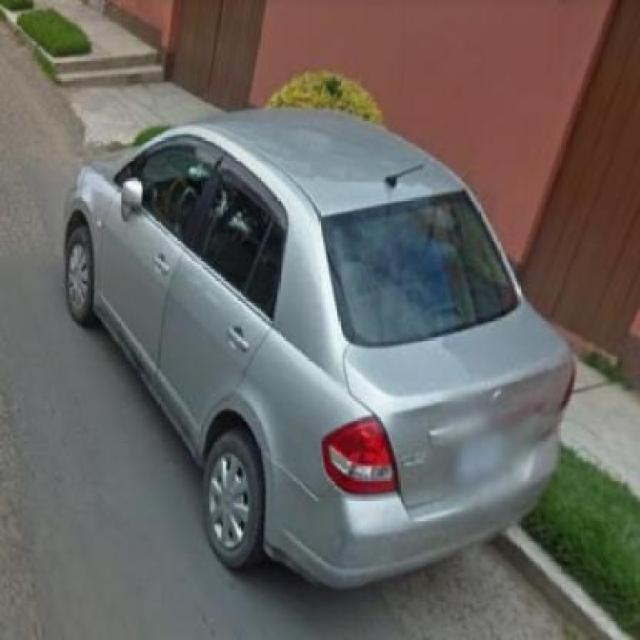car: (41, 99, 580, 586)
